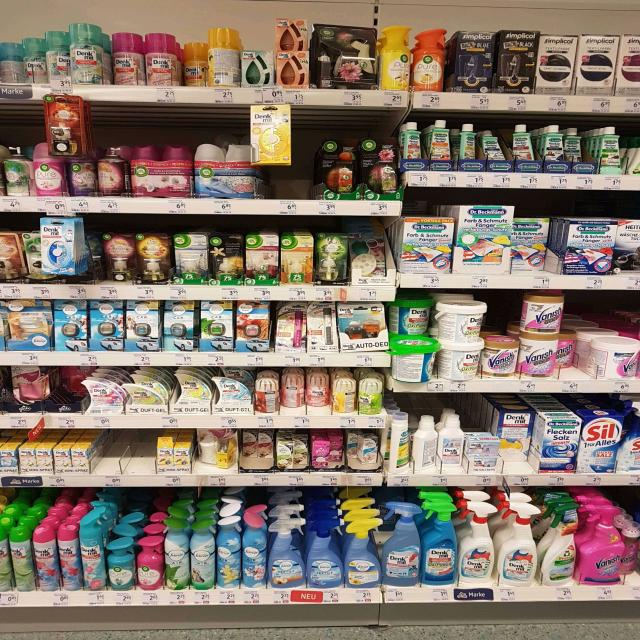void: (256, 132, 318, 198), (93, 430, 153, 475)
